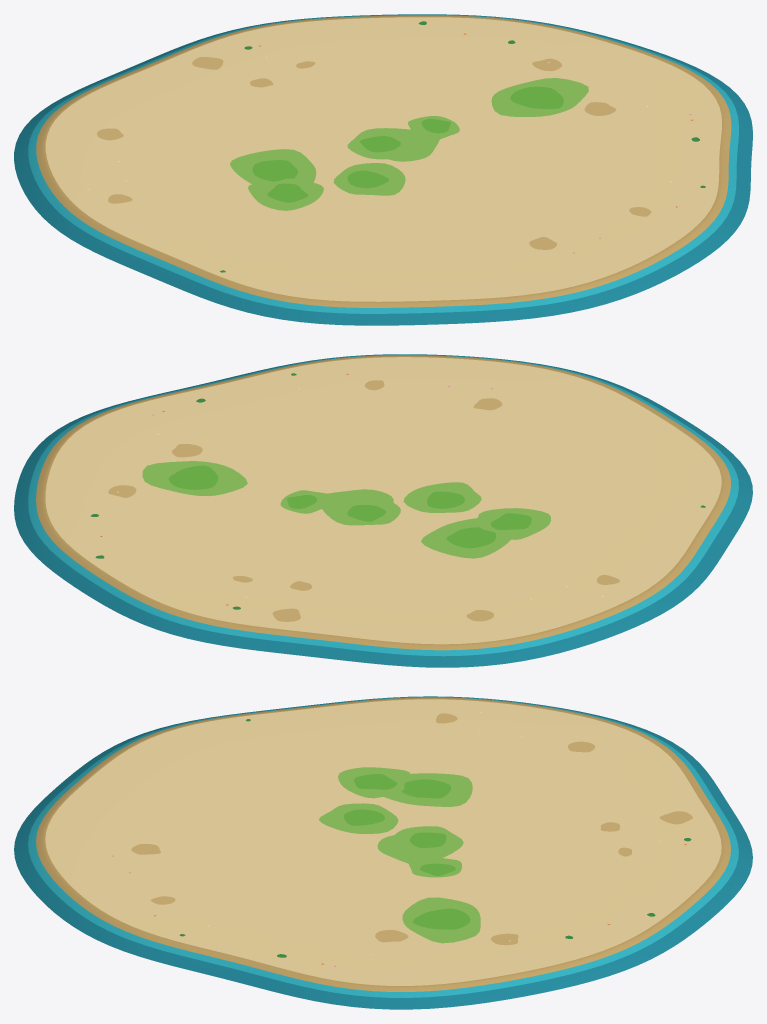
The model's file is IslaTerreno.fbx.
3 renders of one model, top to bottom at view 1: azimuth 30°, elevation 25°; view 2: azimuth 150°, elevation 25°; view 3: azimuth 270°, elevation 25°, orthographic.
Visible parts, largest first — view 1: IslaTerreno; view 2: IslaTerreno; view 3: IslaTerreno.
Boxes of the visible parts, <box> form: IslaTerreno: <box>14,14,752,325</box>; IslaTerreno: <box>14,354,752,667</box>; IslaTerreno: <box>14,696,752,1009</box>.
Bounding box in the file's own units: 520 × 8.09 × 519.
1 material, 1 textured.
